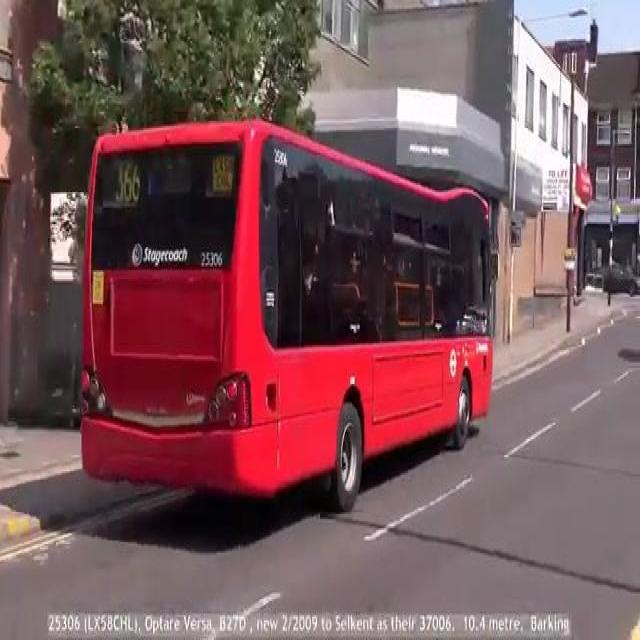bus: (77, 115, 500, 517)
